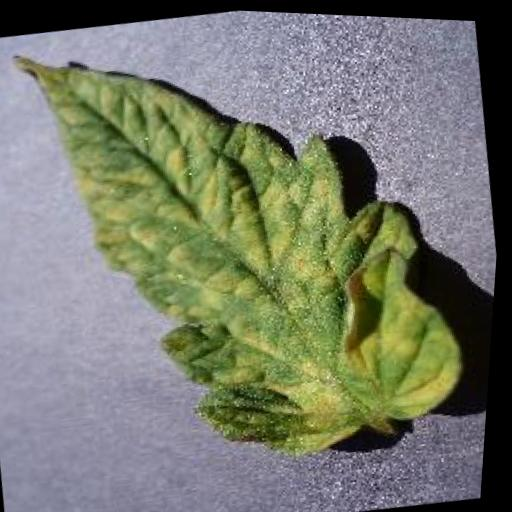Leaf Mold: (0, 0, 492, 500)
